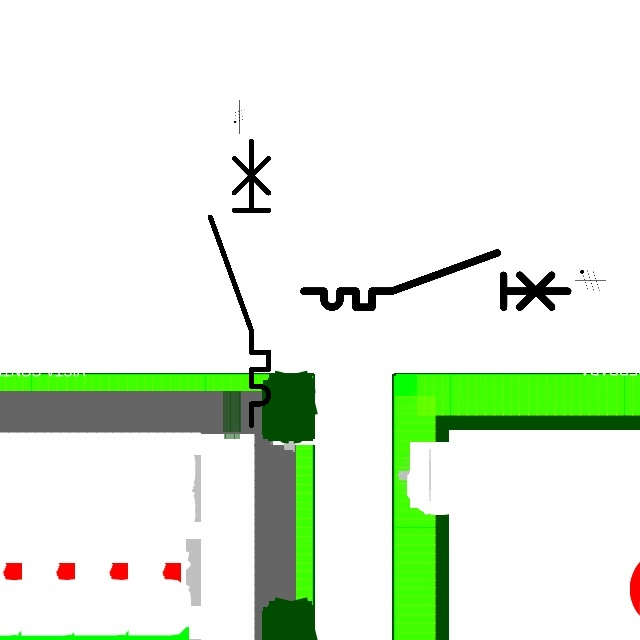interruptor_termomagnetico: (203, 133, 276, 432), (297, 246, 574, 314)
